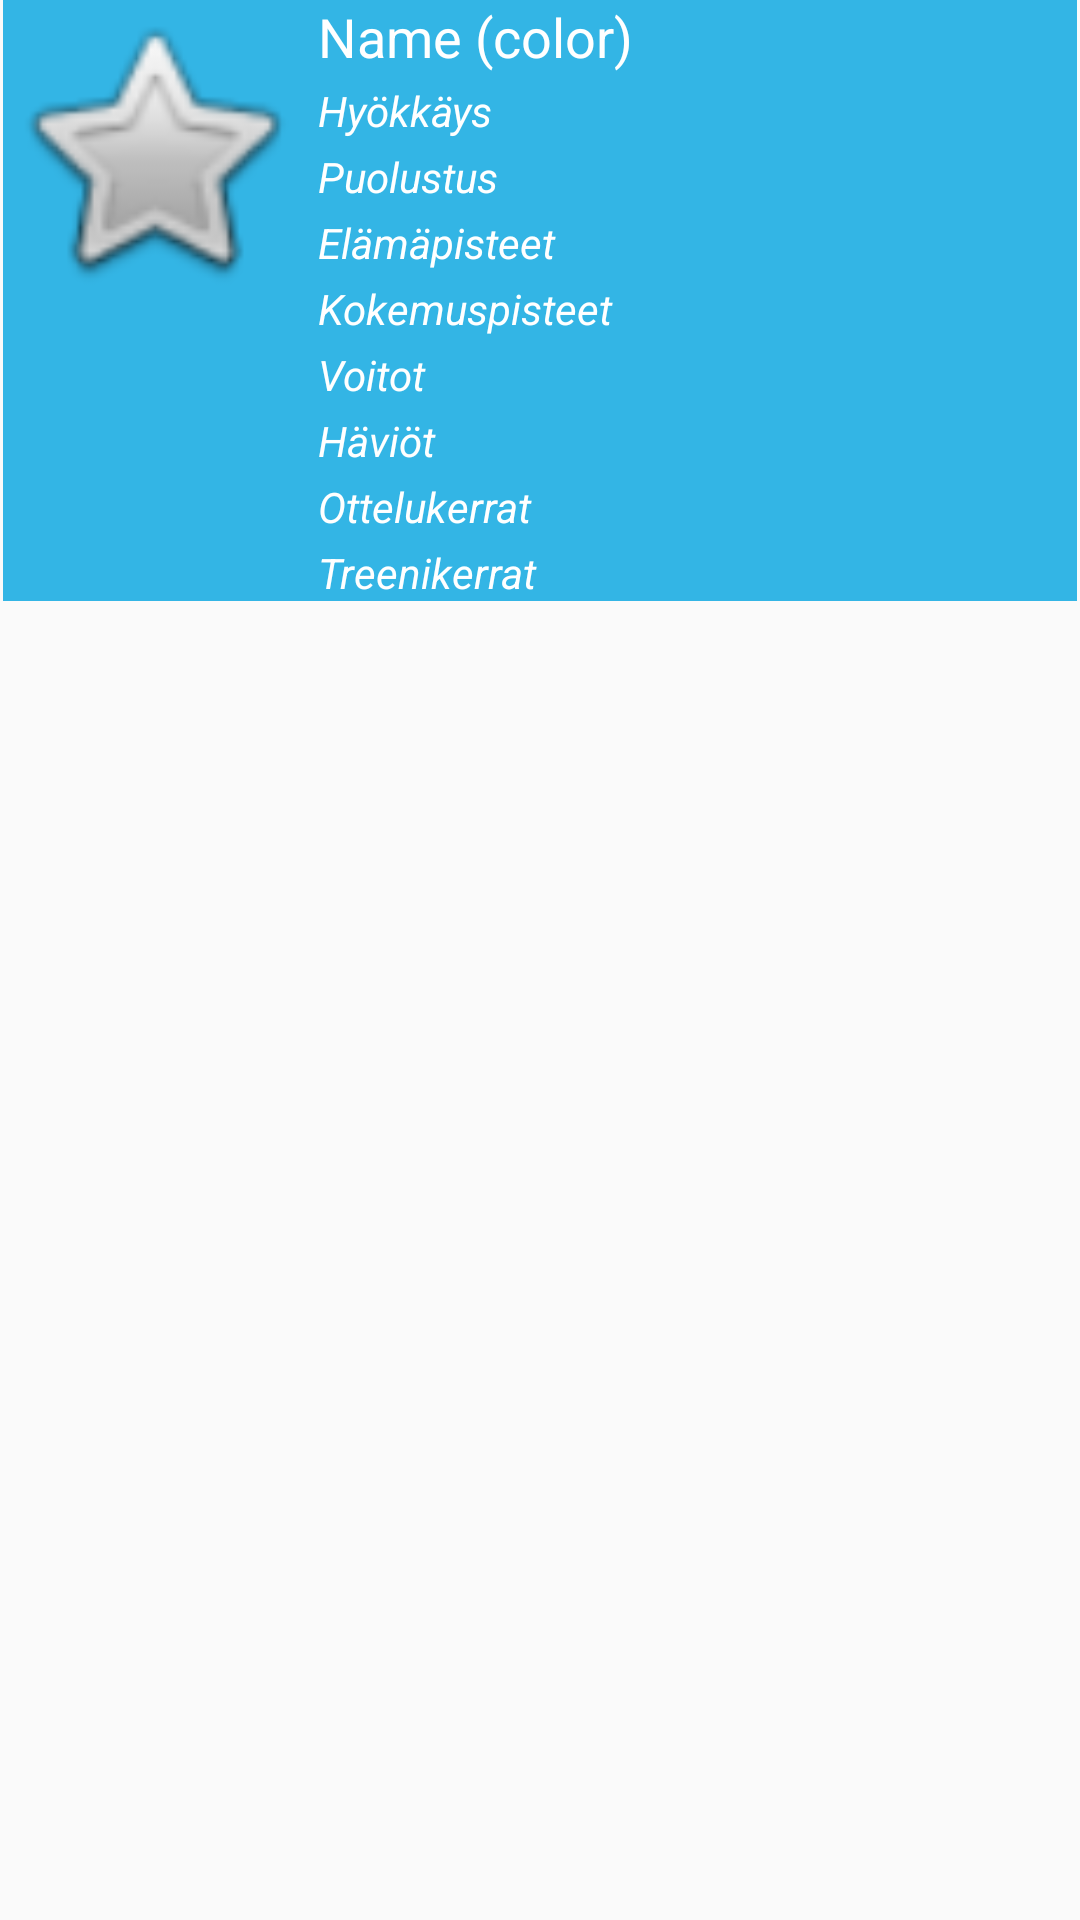

Where to tap for icons on this 1080×1920 app screen, as [x,y]:
star: [155,152]
